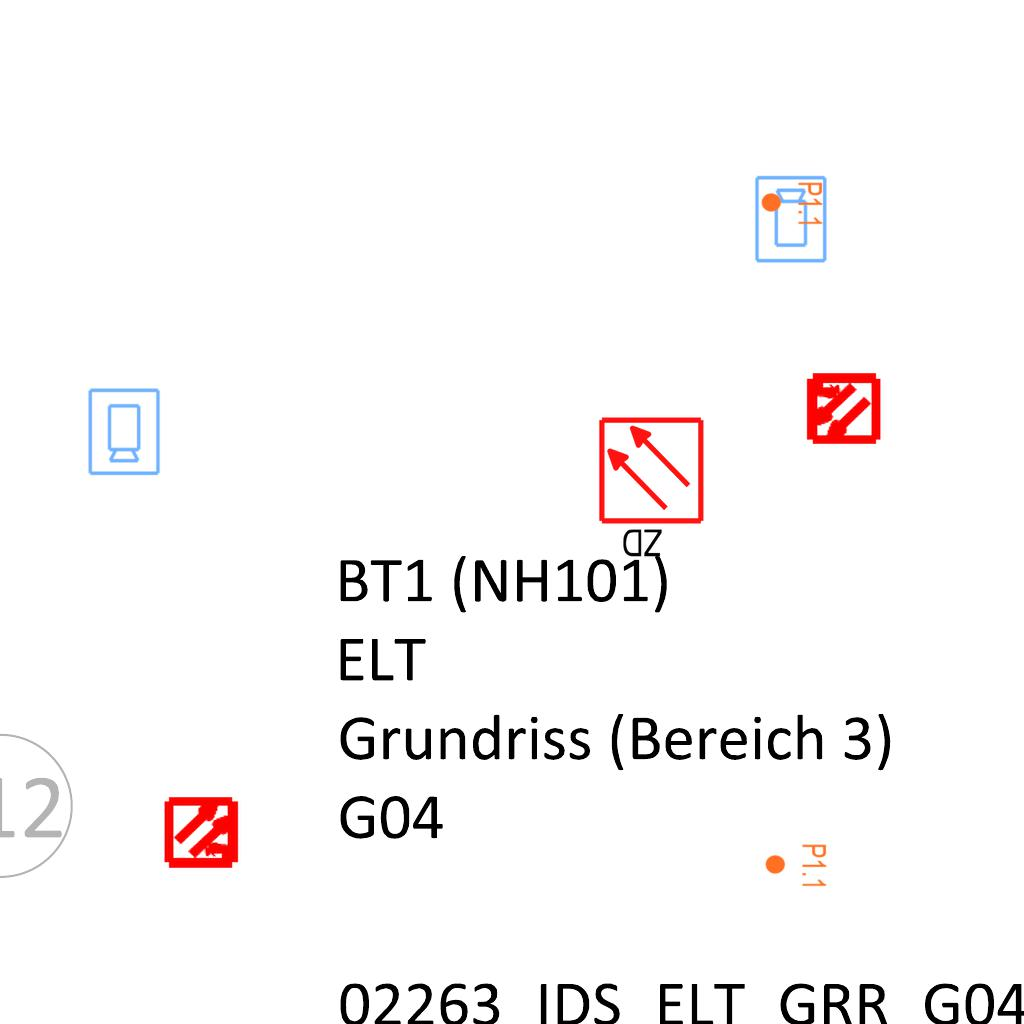Downlight_LED_Einbauleuchten_Flur: (764, 843, 828, 889), (760, 181, 824, 227)
KFO_Kamera_mit_Festobjektiv: (85, 386, 162, 477), (753, 174, 830, 265)
OT_Multisensormelder_(Kombination_RMO_WMD): (147, 776, 260, 889), (785, 352, 898, 465)
ZD_Melder_in_Zwischendecke_mit_Revisionsoeffnung_mind_40_x_40_cm: (596, 415, 710, 564)
